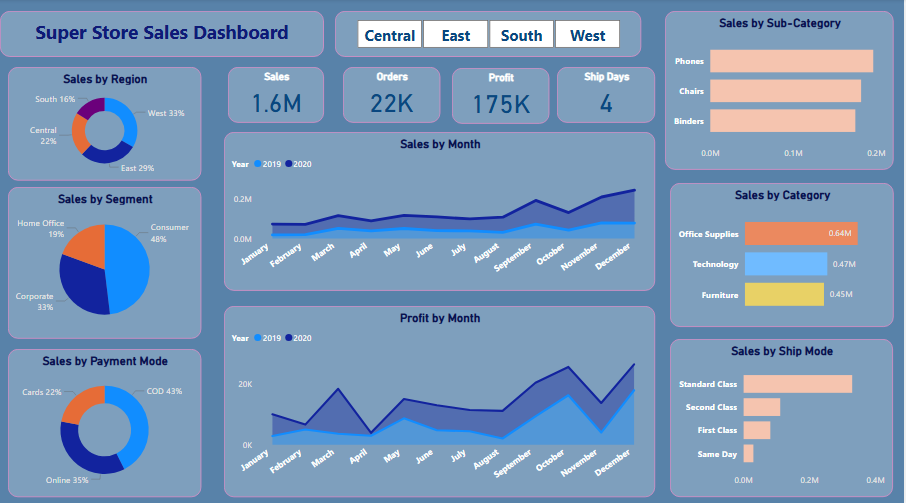

The dashboard page shown, as its layout file describes it:
{"tool":"powerbi","page":{"name":"Page 1","canvas":[1280,720],"ordinal":0},"visuals":[{"type":"clusteredBarChart","title":"Sales by Category","fields":{"Category":["SuperStore_Sales_Dataset.Category"],"Y":["Sum(SuperStore_Sales_Dataset.Sales)"]},"box":[949.6,260.8,317.5,204.1],"z":0},{"type":"clusteredBarChart","title":"Sales by Sub-Category","fields":{"Category":["SuperStore_Sales_Dataset.Sub-Category"],"Y":["Sum(SuperStore_Sales_Dataset.Sales)"]},"box":[942.4,16.8,324.2,225.1],"z":1000},{"type":"clusteredBarChart","title":"Sales by Ship Mode","fields":{"Category":["SuperStore_Sales_Dataset.Ship Mode"],"Y":["Sum(SuperStore_Sales_Dataset.Sales)"]},"box":[949.6,481.9,316.1,223.9],"z":2000},{"type":"stackedAreaChart","title":"Sales by Month","fields":{"Category":["SuperStore_Sales_Dataset.Order Date.Variation.Date Hierarchy.Month","SuperStore_Sales_Dataset.Order Date.Variation.Date Hierarchy.Day"],"Y":["Sum(SuperStore_Sales_Dataset.Sales)"],"Series":["SuperStore_Sales_Dataset.Order Date.Variation.Date Hierarchy.Year"]},"box":[317.5,188.1,611.4,225.1],"z":3000},{"type":"stackedAreaChart","title":"Profit by Month","fields":{"Category":["SuperStore_Sales_Dataset.Order Date.Variation.Date Hierarchy.Month","SuperStore_Sales_Dataset.Order Date.Variation.Date Hierarchy.Day"],"Series":["SuperStore_Sales_Dataset.Order Date.Variation.Date Hierarchy.Year"],"Y":["Sum(SuperStore_Sales_Dataset.Profit)"]},"box":[317.5,435.1,610.9,270.7],"z":4000},{"type":"pieChart","title":"Sales by Segment","fields":{"Category":["SuperStore_Sales_Dataset.Segment"],"Y":["Sum(SuperStore_Sales_Dataset.Sales)"]},"box":[11.8,267.1,273.8,215],"z":5000},{"type":"donutChart","title":" Sales by Payment Mode","fields":{"Y":["Sum(SuperStore_Sales_Dataset.Sales)"],"Category":["SuperStore_Sales_Dataset.Payment Mode"]},"box":[11.8,495.5,273.8,210],"z":6000},{"type":"slicer","fields":{"Values":["SuperStore_Sales_Dataset.Region"]},"box":[474.8,17,433.7,65.2],"z":7000},{"type":"textbox","box":[0,17,459.2,65.2],"z":8000},{"type":"card","title":"Sales","fields":{"Values":["Sum(SuperStore_Sales_Dataset.Sales)"]},"box":[322.5,95.7,136.1,79],"z":9000},{"type":"card","title":"Orders","fields":{"Values":["Sum(SuperStore_Sales_Dataset.Quantity)"]},"box":[485.5,95.7,137.7,79],"z":10000},{"type":"card","title":"Profit","fields":{"Values":["Sum(SuperStore_Sales_Dataset.Profit)"]},"box":[640,97.4,137.7,79],"z":11000},{"type":"card","title":"Ship Days","fields":{"Values":["Avg(SuperStore_Sales_Dataset.AvgDelivery)"]},"box":[789.5,95.7,139.4,79],"z":12000},{"type":"donutChart","title":"Sales by Region","fields":{"Y":["Sum(SuperStore_Sales_Dataset.Sales)"],"Category":["SuperStore_Sales_Dataset.Region"]},"box":[11.8,95.7,273.8,161.3],"z":13000}]}

Visuals, with their boxes in screenshot pixels (x1, y1, x2, y2), scaled from the page's 1280x720 canvas onto the 906x503 screenshot:
"Sales by Category" clusteredBarChart: (x1=672, y1=182, x2=897, y2=325)
"Sales by Sub-Category" clusteredBarChart: (x1=667, y1=12, x2=897, y2=169)
"Sales by Ship Mode" clusteredBarChart: (x1=672, y1=337, x2=896, y2=493)
"Sales by Month" stackedAreaChart: (x1=225, y1=131, x2=657, y2=289)
"Profit by Month" stackedAreaChart: (x1=225, y1=304, x2=657, y2=493)
"Sales by Segment" pieChart: (x1=8, y1=187, x2=202, y2=337)
" Sales by Payment Mode" donutChart: (x1=8, y1=346, x2=202, y2=493)
slicer - SuperStore_Sales_Dataset.Region: (x1=336, y1=12, x2=643, y2=57)
textbox: (x1=0, y1=12, x2=325, y2=57)
"Sales" card: (x1=228, y1=67, x2=325, y2=122)
"Orders" card: (x1=344, y1=67, x2=441, y2=122)
"Profit" card: (x1=453, y1=68, x2=550, y2=123)
"Ship Days" card: (x1=559, y1=67, x2=657, y2=122)
"Sales by Region" donutChart: (x1=8, y1=67, x2=202, y2=180)
